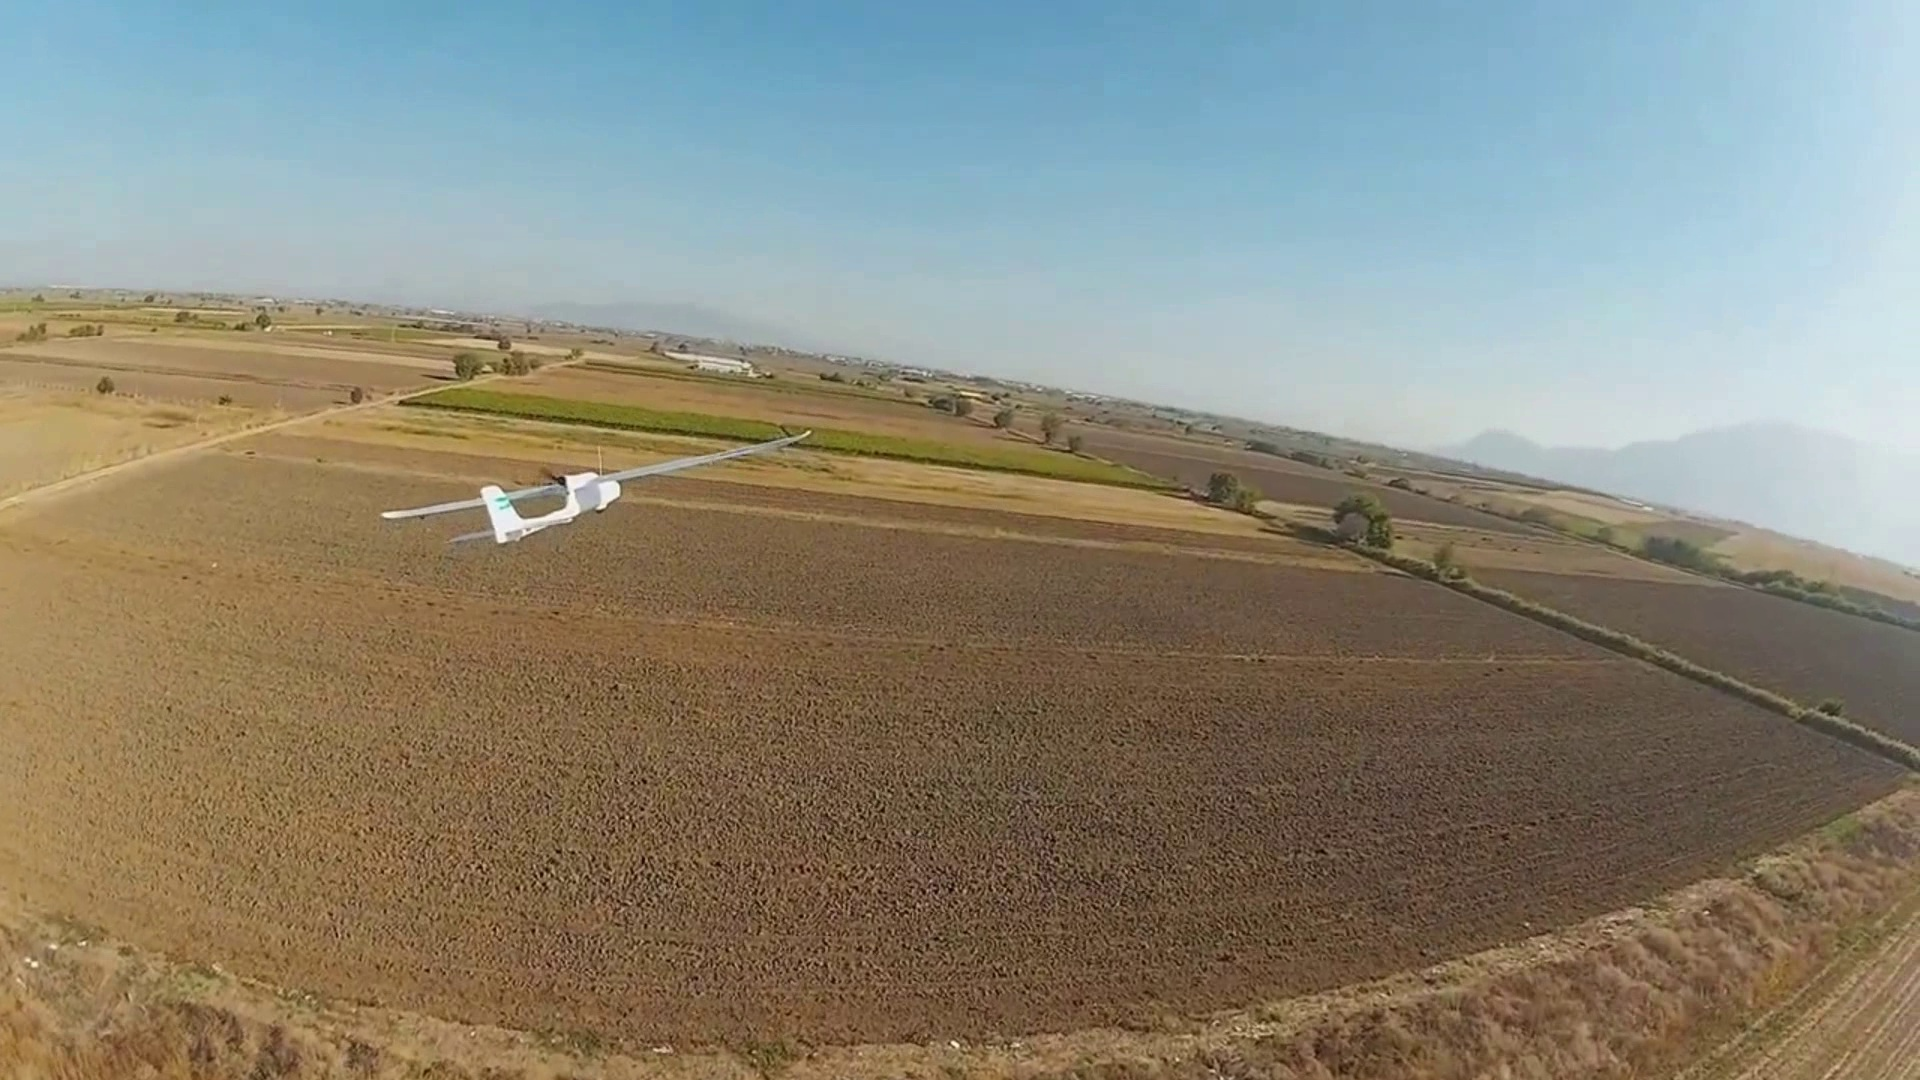airplane: (377, 430, 814, 549)
